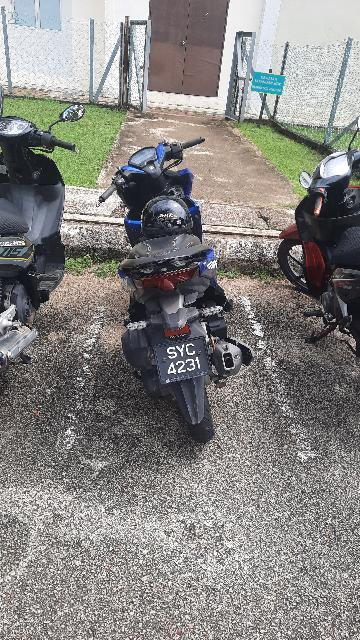License_Plate: (155, 334, 218, 385)
motorcycle: (100, 122, 264, 440)
